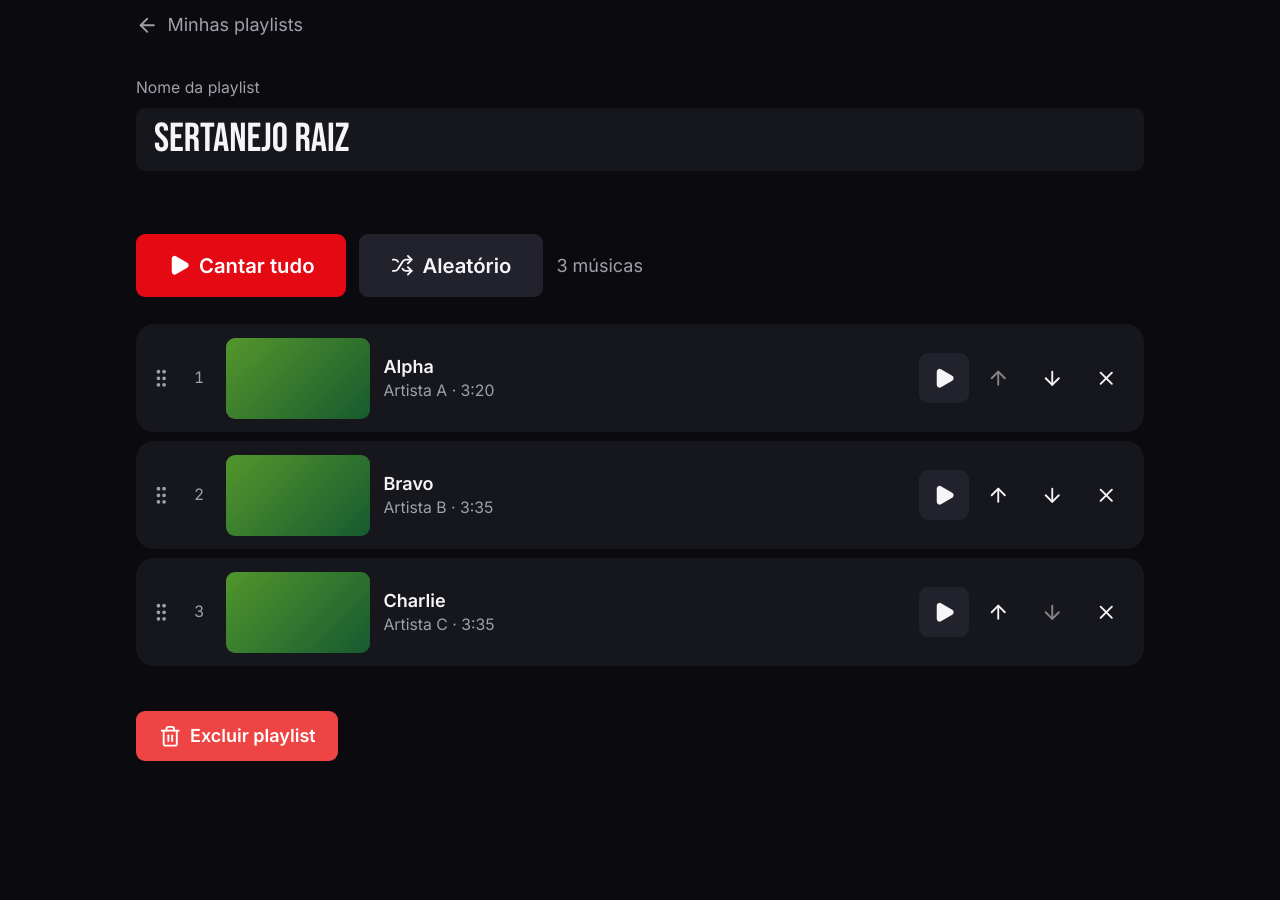
Test: PlaylistPage › renaming › explains when another playlist already has the name
The width and height of the screenshot is (1280, 900).
Replace the text in the field labelled "Nome da playlist" with "Festa": point(640, 140) x1=136 y1=108 x2=1144 y2=171
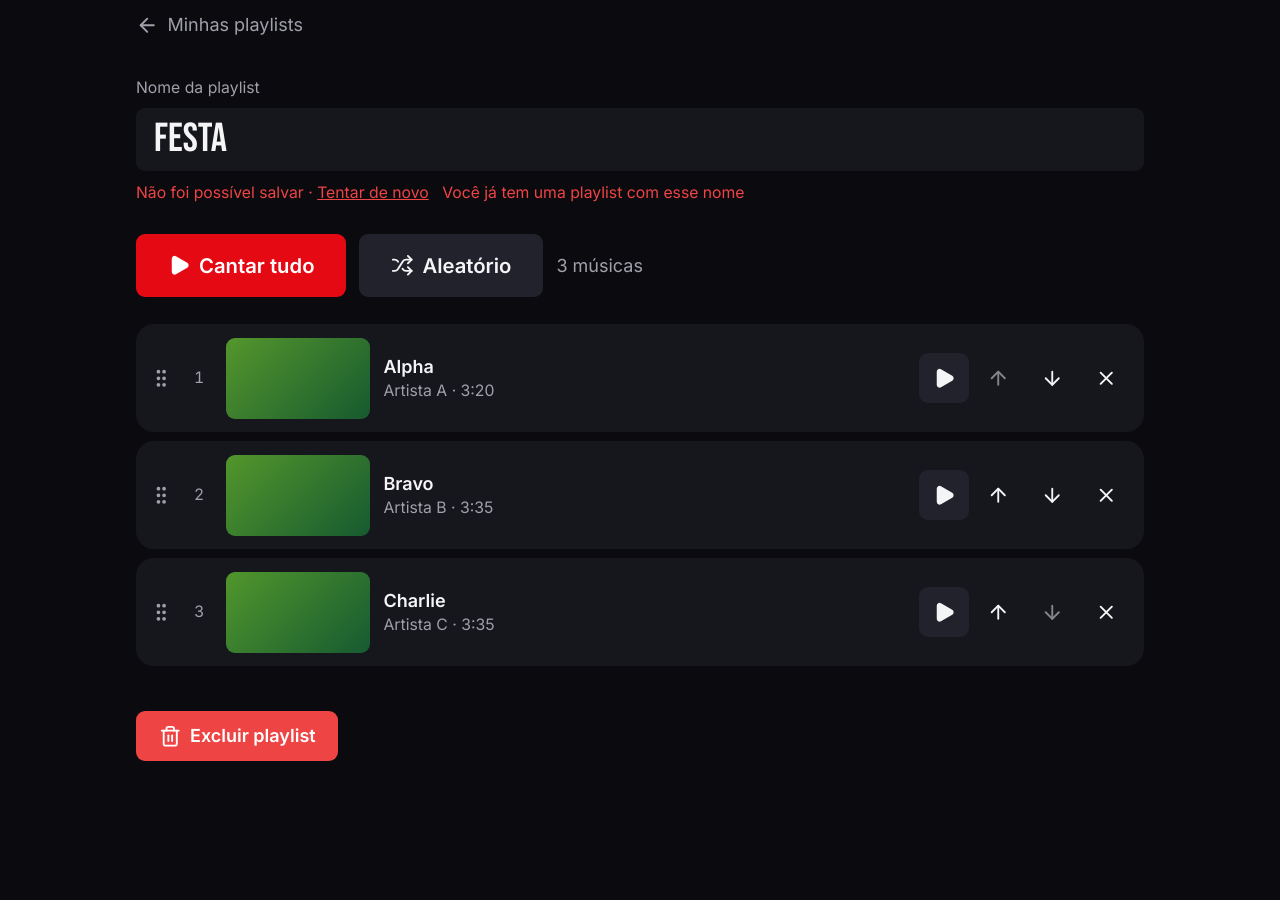
Now the text "Você já tem uma playlist com esse nome" is shown, box x1=442 y1=182 x2=744 y2=205
